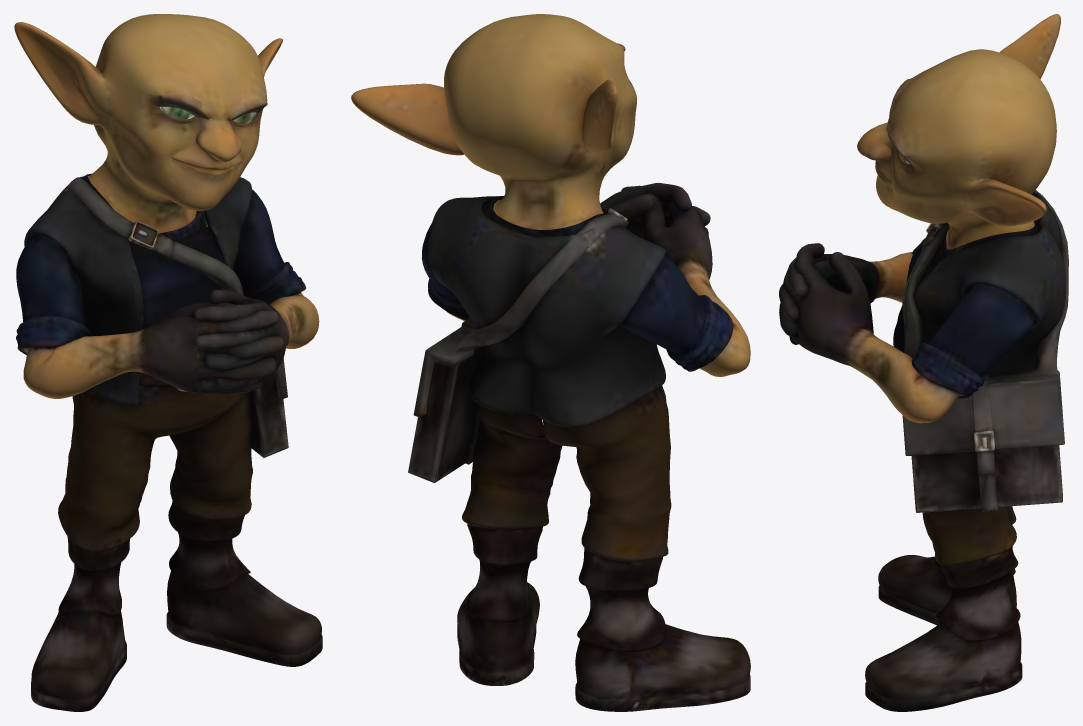
File: MZ4250 - Goblin Merchant_sheisty.glb
3 views of the same model, side by side, from view 1: azimuth 30°, elevation 25°; view 2: azimuth 150°, elevation 25°; view 3: azimuth 270°, elevation 25° (orthographic). The views are drawn at different scales.
Parts seen in each view (by area): view 1: Goblin Merchant.001; view 2: Goblin Merchant.001; view 3: Goblin Merchant.001.
Part boxes in pixels (x1,y1,x2,y2): Goblin Merchant.001: (14, 14, 322, 711); Goblin Merchant.001: (351, 14, 750, 711); Goblin Merchant.001: (779, 14, 1068, 711).
Bounding box in the file's own units: 34.91 × 65.59 × 28.72.
1 material, 1 textured.
